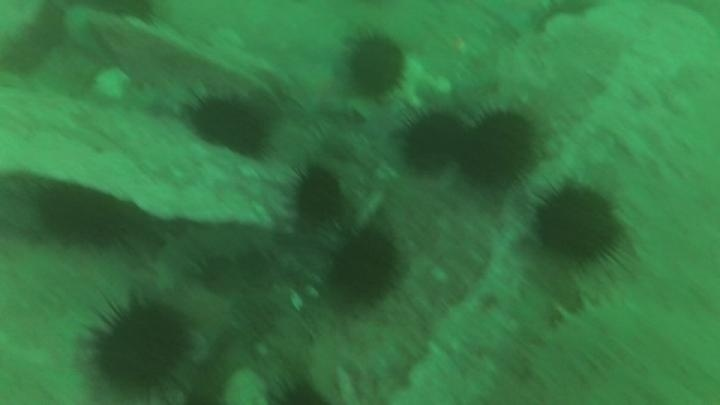echinus: (85, 296, 194, 399), (532, 183, 624, 265), (457, 109, 539, 189), (34, 183, 128, 248), (185, 90, 273, 159), (327, 226, 402, 306), (341, 31, 409, 102), (398, 109, 468, 174), (288, 165, 346, 227), (264, 375, 332, 405)
holothurian: (529, 291, 646, 383), (147, 221, 279, 291), (120, 73, 205, 118)
starfish: (287, 61, 356, 119)
